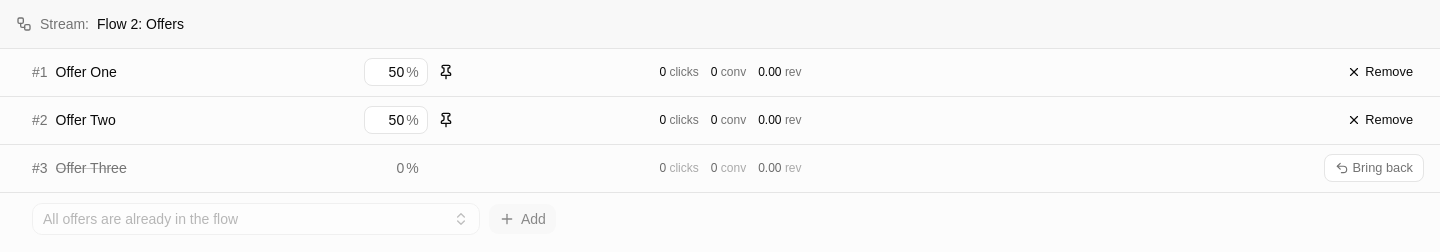
OfferStreamRows › manual share pins the offer and blocks invalid totals
The image size is (1440, 252).
Click the button named "pin share" in the row of "Offer One" at (446,72), box [432, 58, 460, 86]
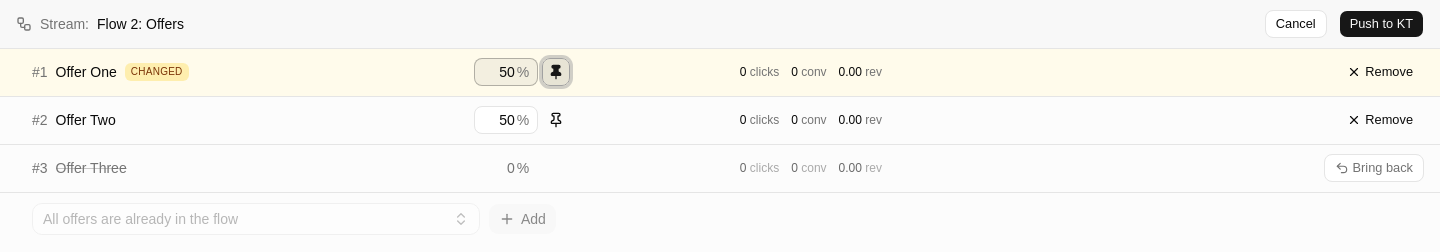
Click the button named "pin share" at (556,120), box [542, 106, 570, 134]
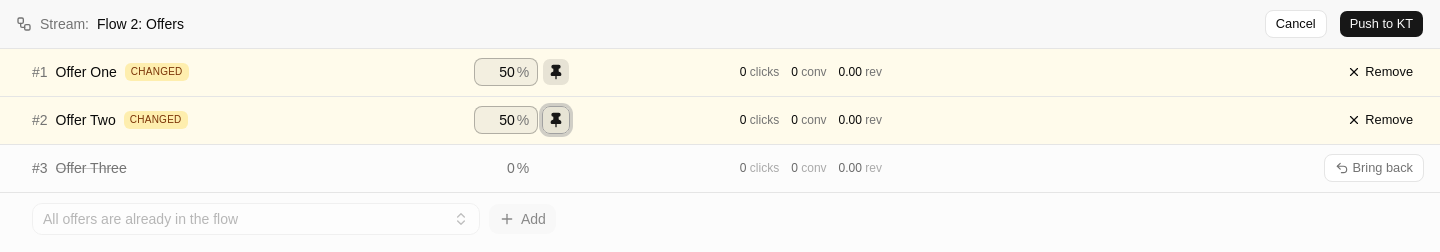
Replace the text in the field named "Share of offer #1" with "30" at (495,72), box [475, 62, 515, 82]
Then press Enter
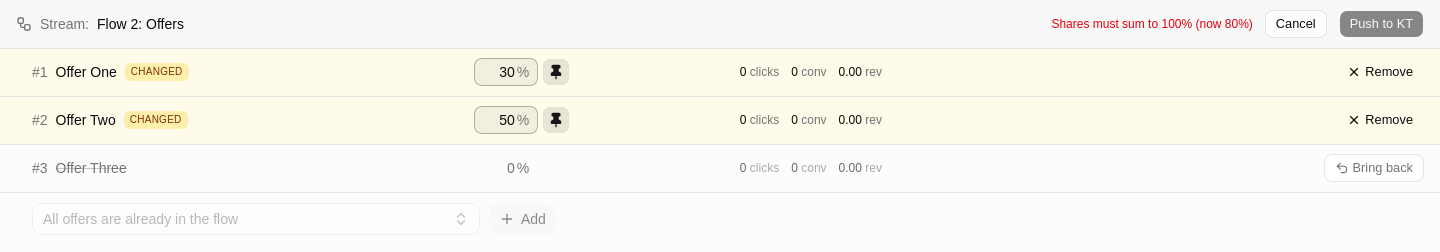
Check: the text "Shares must sum to 100% (now 80%)" is shown, box [1051, 16, 1253, 32]
Check: the button "Push to KT" is disabled, box [1339, 10, 1424, 38]
